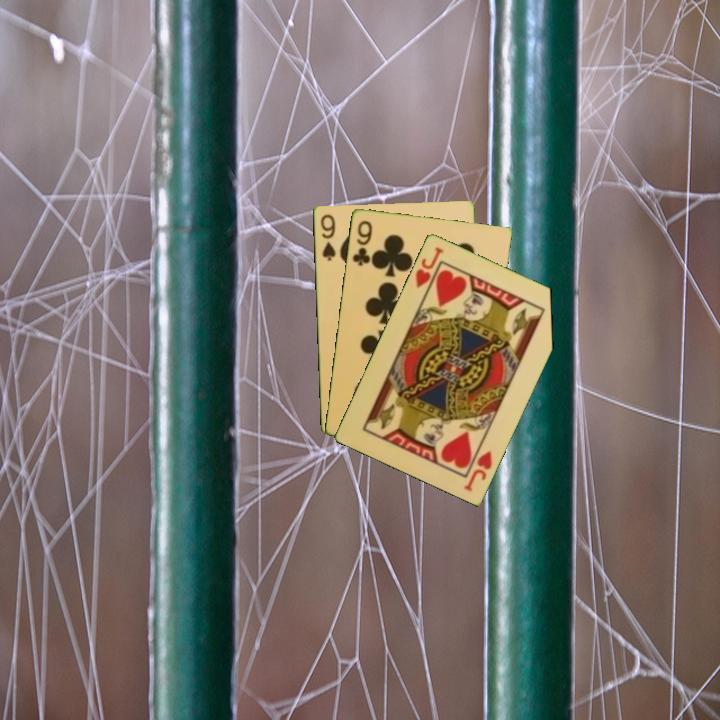9c: (349, 217, 375, 268)
9s: (317, 211, 338, 263)
Jh: (411, 243, 446, 298), (460, 446, 495, 494)
